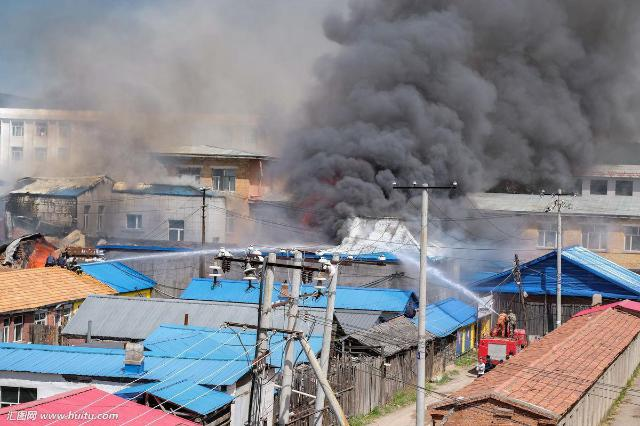fire: (27, 245, 47, 267)
